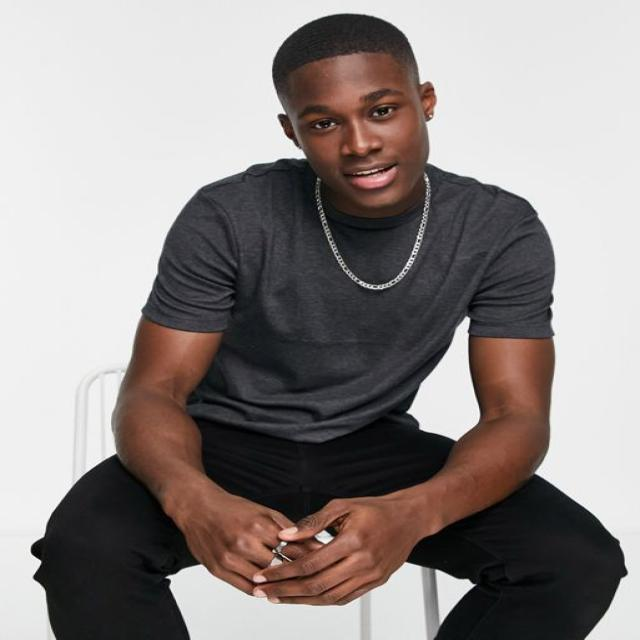tshirt: (138, 154, 558, 444)
